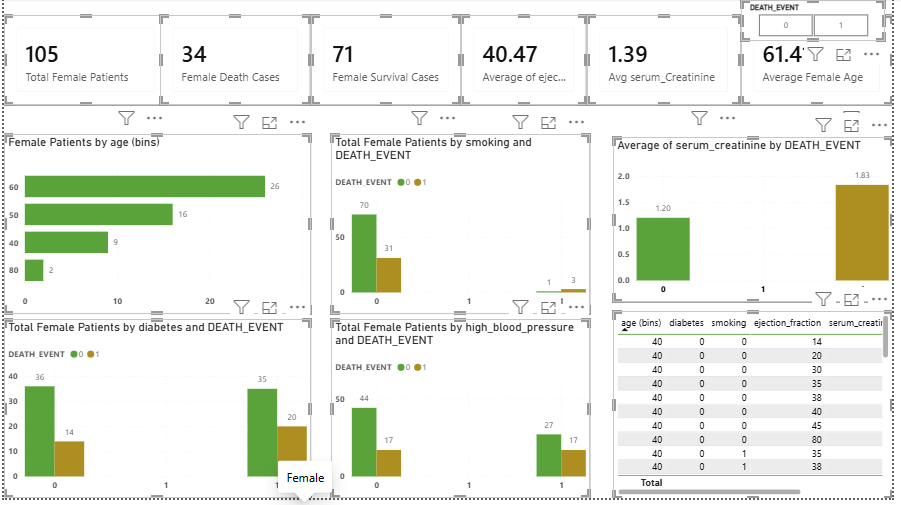

What the dashboard file says about the page in this screenshot:
{"tool":"powerbi","page":{"name":"Female","canvas":[1280,720],"ordinal":2},"visuals":[{"type":"cardVisual","fields":{"Data":["heart_failure_clinical_records_dataset.Total Female Patients"]},"box":[0,24.5,236.2,129.6],"z":0},{"type":"cardVisual","fields":{"Data":["heart_failure_clinical_records_dataset.Death Cases"]},"box":[224.6,24.5,217.4,129.6],"z":1000},{"type":"cardVisual","fields":{"Data":["heart_failure_clinical_records_dataset.Survival Cases"]},"box":[442.1,24.5,216,129.6],"z":2000},{"type":"cardVisual","fields":{"Data":["Avg(heart_failure_clinical_records_dataset.ejection_fraction)"]},"box":[658.1,24.5,181.4,129.6],"z":3000},{"type":"cardVisual","fields":{"Data":["heart_failure_clinical_records_dataset.Avg serum_Creatinine"]},"box":[839.5,24.5,221.8,129.6],"z":4000},{"type":"cardVisual","fields":{"Data":["heart_failure_clinical_records_dataset.Average Male Age"]},"box":[1061.3,24.5,218.9,129.6],"z":5000},{"type":"clusteredBarChart","fields":{"Category":["heart_failure_clinical_records_dataset.age (bins)"],"Y":["heart_failure_clinical_records_dataset.Total Female Patients"]},"box":[0,195.8,442.1,259.2],"z":6000},{"type":"clusteredColumnChart","fields":{"Category":["heart_failure_clinical_records_dataset.diabetes"],"Series":["heart_failure_clinical_records_dataset.DEATH_EVENT"],"Y":["heart_failure_clinical_records_dataset.Total Female Patients"]},"box":[0,462.2,442.1,257.8],"z":7000},{"type":"clusteredColumnChart","fields":{"Category":["heart_failure_clinical_records_dataset.smoking"],"Y":["heart_failure_clinical_records_dataset.Total Female Patients"],"Series":["heart_failure_clinical_records_dataset.DEATH_EVENT"]},"box":[470.9,195.8,373,259.2],"z":8000},{"type":"clusteredColumnChart","fields":{"Category":["heart_failure_clinical_records_dataset.high_blood_pressure"],"Series":["heart_failure_clinical_records_dataset.DEATH_EVENT"],"Y":["heart_failure_clinical_records_dataset.Total Female Patients"]},"box":[470.9,462.2,373,257.8],"z":9000},{"type":"clusteredColumnChart","fields":{"Category":["heart_failure_clinical_records_dataset.DEATH_EVENT"],"Y":["Avg(heart_failure_clinical_records_dataset.serum_creatinine)"]},"box":[877,200.2,403.2,237.6],"z":10000},{"type":"tableEx","fields":{"Values":["heart_failure_clinical_records_dataset.age (bins)","heart_failure_clinical_records_dataset.diabetes","heart_failure_clinical_records_dataset.smoking","heart_failure_clinical_records_dataset.ejection_fraction","heart_failure_clinical_records_dataset.serum_creatinine","Sum(heart_failure_clinical_records_dataset.DEATH_EVENT)"]},"box":[877,450.7,403.2,270.7],"z":11000},{"type":"slicer","fields":{"Values":["heart_failure_clinical_records_dataset.DEATH_EVENT"]},"box":[1061.6,3.4,206.6,58.8],"z":12000}]}

Visuals, with their boxes in screenshot pixels (x1, y1, x2, y2), scaled from the page's 1280x720 canvas onto the 901x505 screenshot:
cardVisual - heart_failure_clinical_records_dataset.Total Female Patients: 0, 17, 166, 108
cardVisual - heart_failure_clinical_records_dataset.Death Cases: 158, 17, 311, 108
cardVisual - heart_failure_clinical_records_dataset.Survival Cases: 311, 17, 463, 108
cardVisual - Avg(heart_failure_clinical_records_dataset.ejection_fraction): 463, 17, 591, 108
cardVisual - heart_failure_clinical_records_dataset.Avg serum_Creatinine: 591, 17, 747, 108
cardVisual - heart_failure_clinical_records_dataset.Average Male Age: 747, 17, 900, 108
clusteredBarChart - heart_failure_clinical_records_dataset.age (bins) x heart_failure_clinical_records_dataset.Total Female Patients: 0, 137, 311, 319
clusteredColumnChart - heart_failure_clinical_records_dataset.diabetes x heart_failure_clinical_records_dataset.DEATH_EVENT: 0, 324, 311, 504
clusteredColumnChart - heart_failure_clinical_records_dataset.smoking x heart_failure_clinical_records_dataset.Total Female Patients: 331, 137, 594, 319
clusteredColumnChart - heart_failure_clinical_records_dataset.high_blood_pressure x heart_failure_clinical_records_dataset.DEATH_EVENT: 331, 324, 594, 504
clusteredColumnChart - heart_failure_clinical_records_dataset.DEATH_EVENT x Avg(heart_failure_clinical_records_dataset.serum_creatinine): 617, 140, 900, 307
tableEx - heart_failure_clinical_records_dataset.age (bins) x heart_failure_clinical_records_dataset.diabetes: 617, 316, 900, 504
slicer - heart_failure_clinical_records_dataset.DEATH_EVENT: 747, 2, 893, 44
